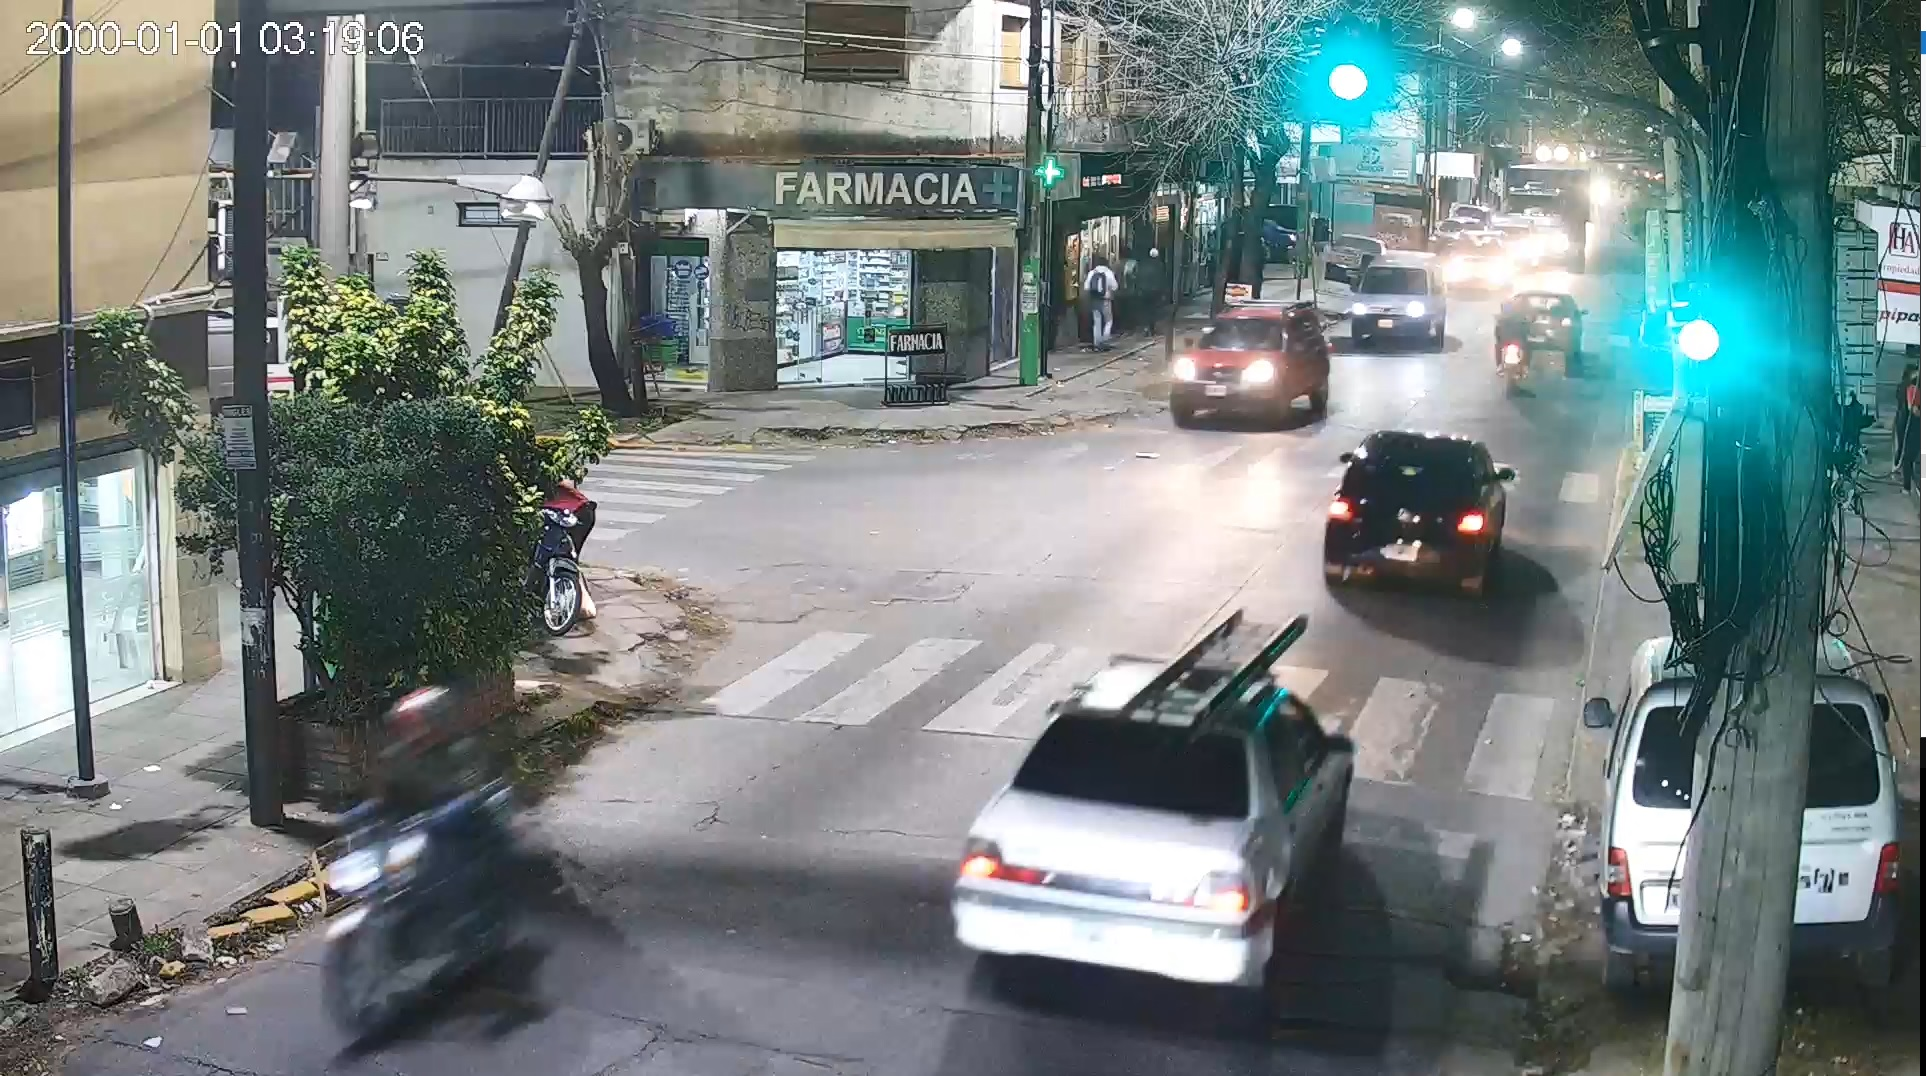car: (917, 611, 1362, 1018), (1568, 604, 1926, 1012), (1314, 416, 1527, 611), (1157, 308, 1351, 443), (1344, 232, 1454, 369), (1487, 277, 1591, 384)
motorcycle: (306, 694, 550, 1038)
